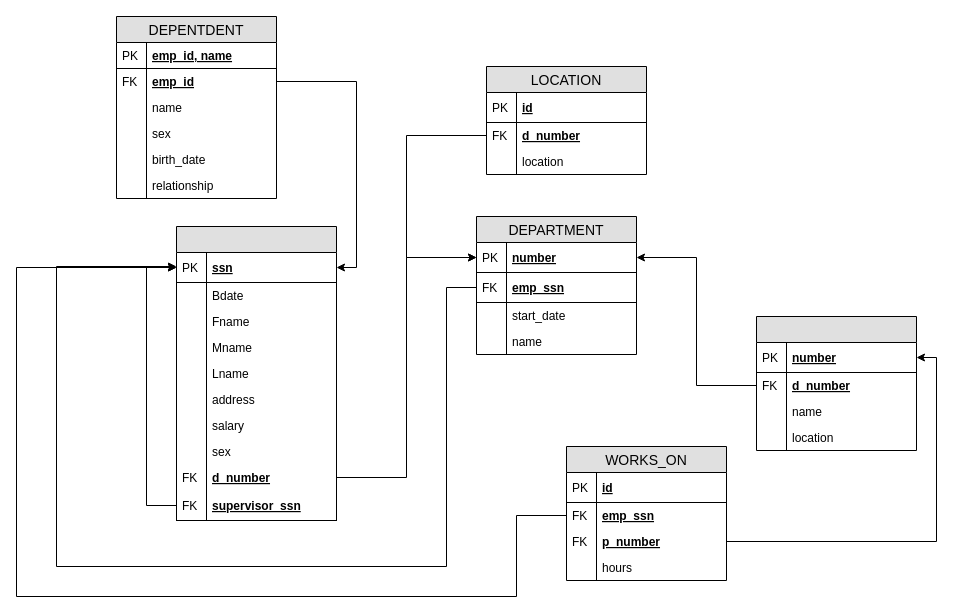
The diagram is 953 pixels wide and 613 high, and some of its shapes have lost their labels. Each missing label, with the box of its shape:
EMPLOYEE: (176, 226, 336, 520)
PROJECT: (756, 316, 916, 450)
